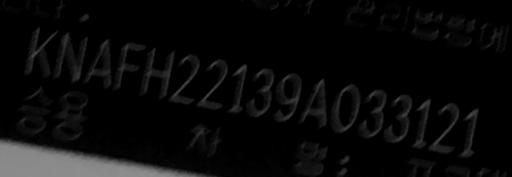letter: (274, 63, 304, 130), (140, 42, 174, 101), (328, 78, 362, 137), (167, 51, 201, 108), (246, 60, 276, 123), (428, 100, 460, 157), (198, 54, 228, 113), (52, 33, 90, 79), (384, 90, 414, 148), (302, 70, 328, 133), (359, 80, 385, 143), (22, 25, 52, 79), (112, 41, 144, 90), (458, 105, 482, 160), (410, 94, 432, 153), (228, 58, 248, 117), (90, 32, 110, 89)
